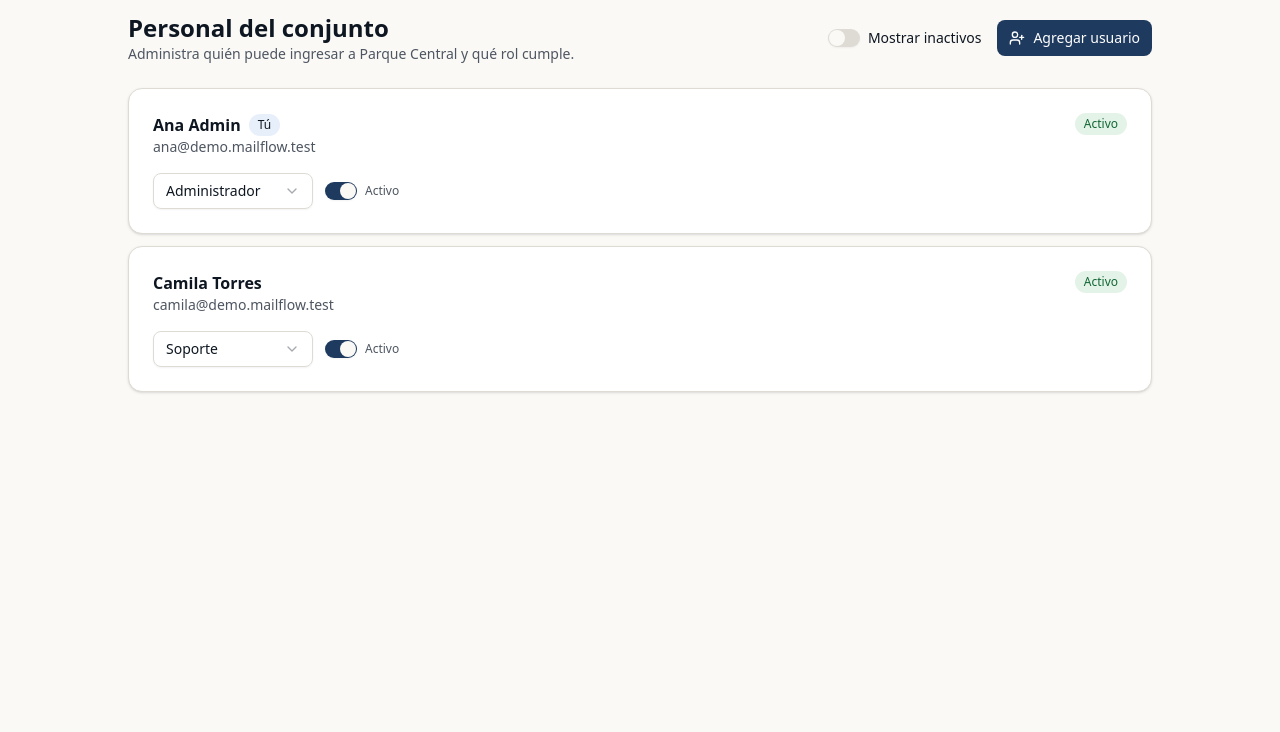
UsuariosPage · Edición de rol y estado › promover SOPORTE → ADMIN actualiza directamente enviando versionEsperada
The width and height of the screenshot is (1280, 732).
Expected: the text "Camila Torres" is shown, [153,271,262,295]
Click the dropdown named "rol de camila torres" at (233,349), box [153,331,313,367]
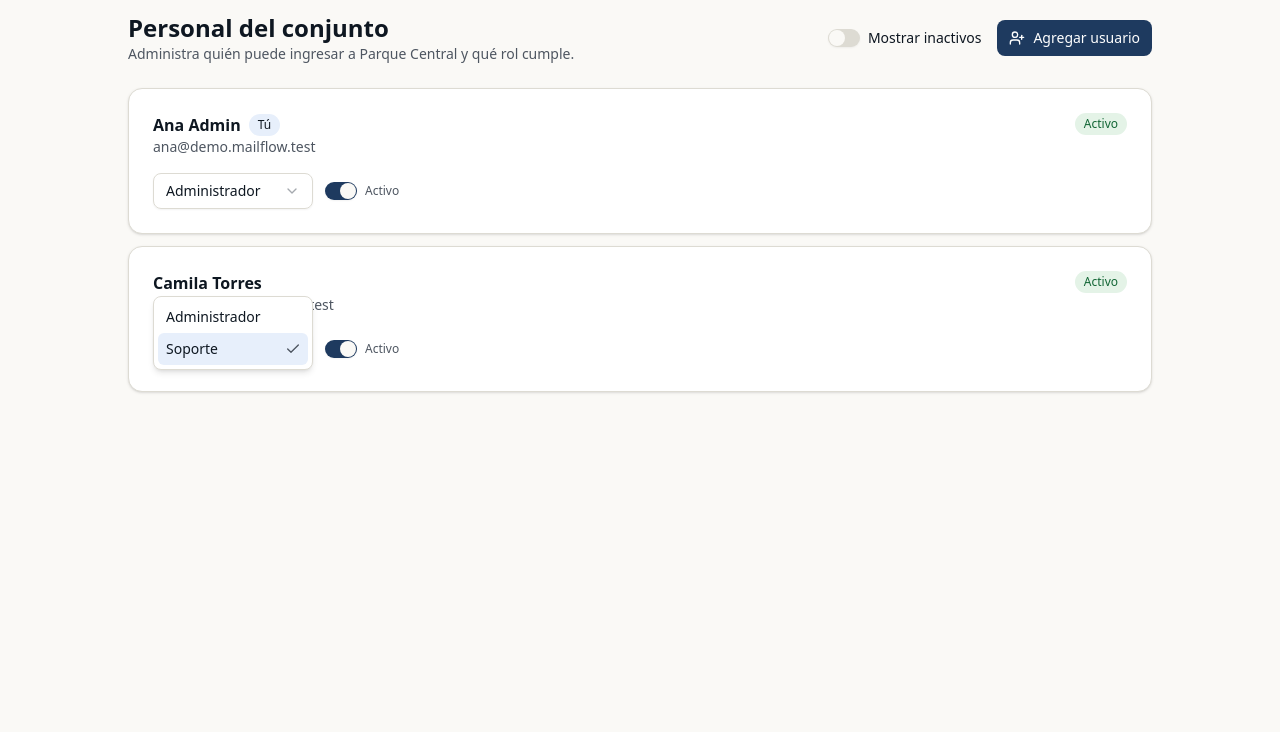
Click the option "Administrador" at (213,316), box [166,307,260,326]
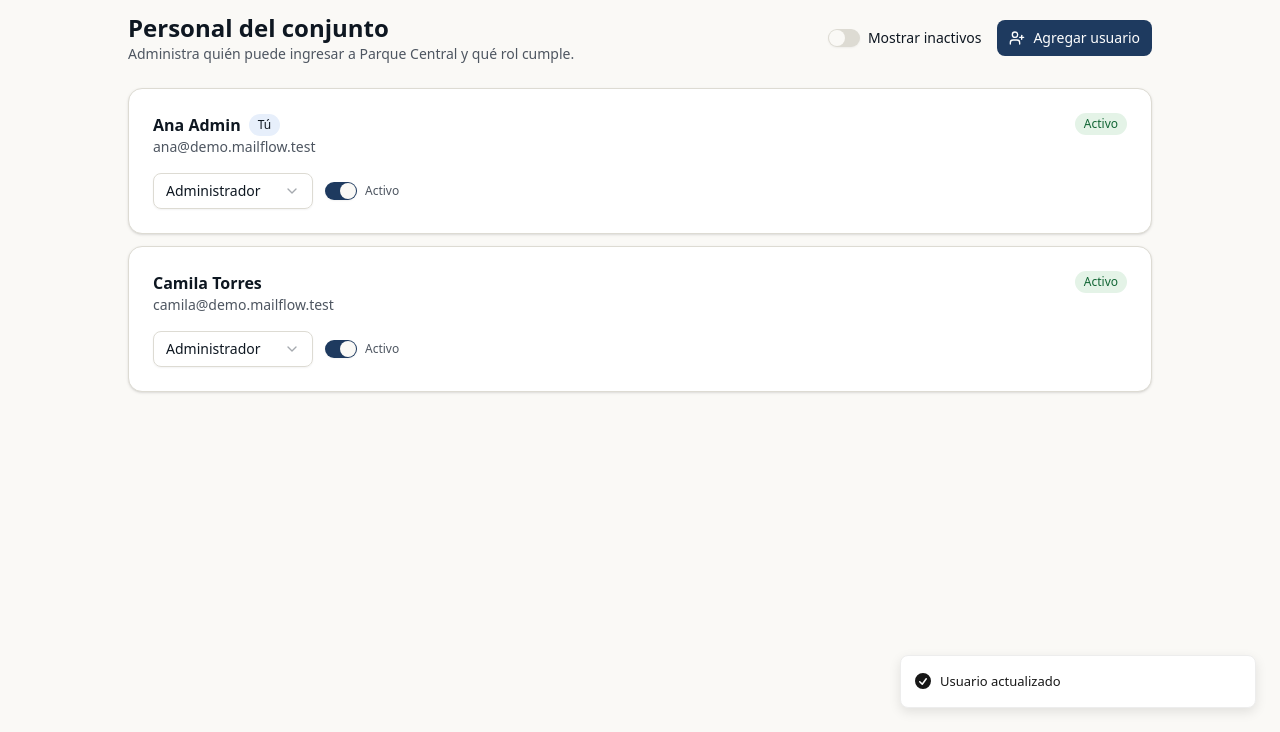
Result: the dropdown named "rol de camila torres" reads "Administrador" at [153,331,313,367]
